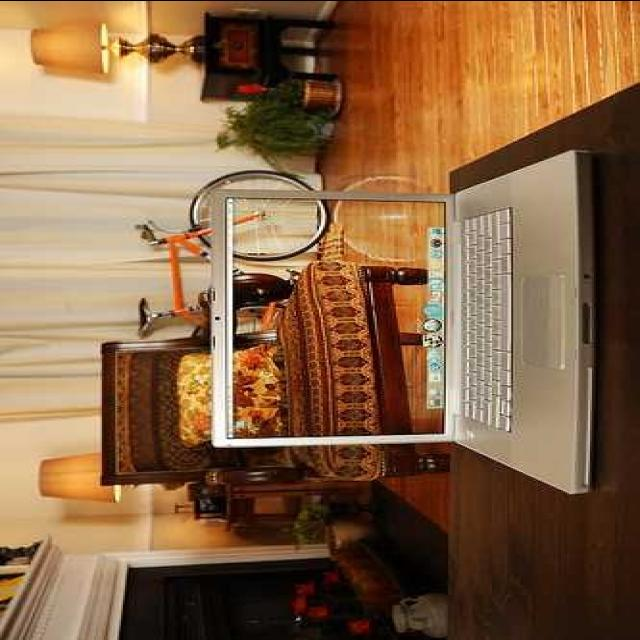laptop: (215, 170, 628, 490)
